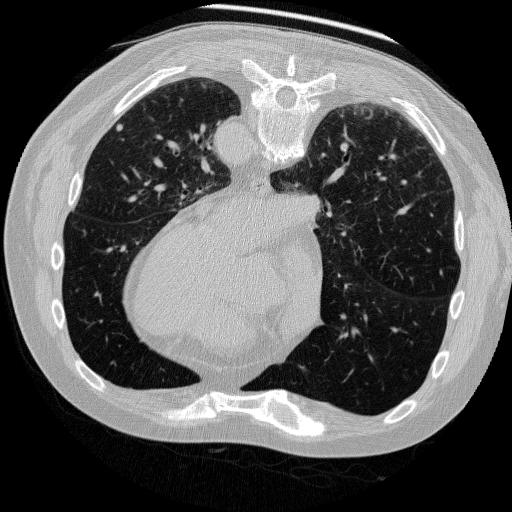nodule: (114, 123, 128, 137)
